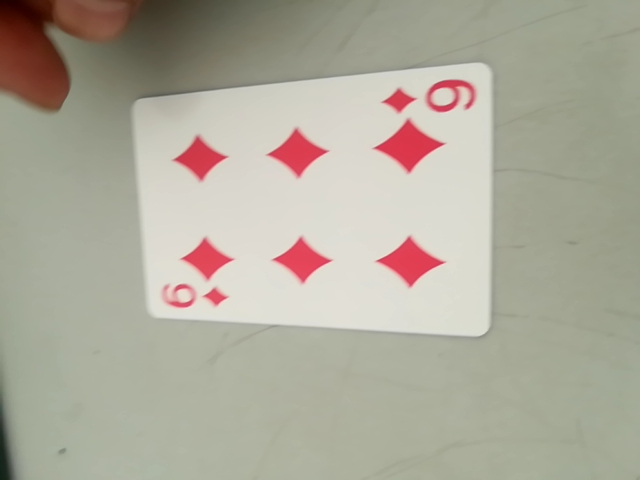fk 6: (383, 72, 478, 122), (155, 278, 233, 317)
